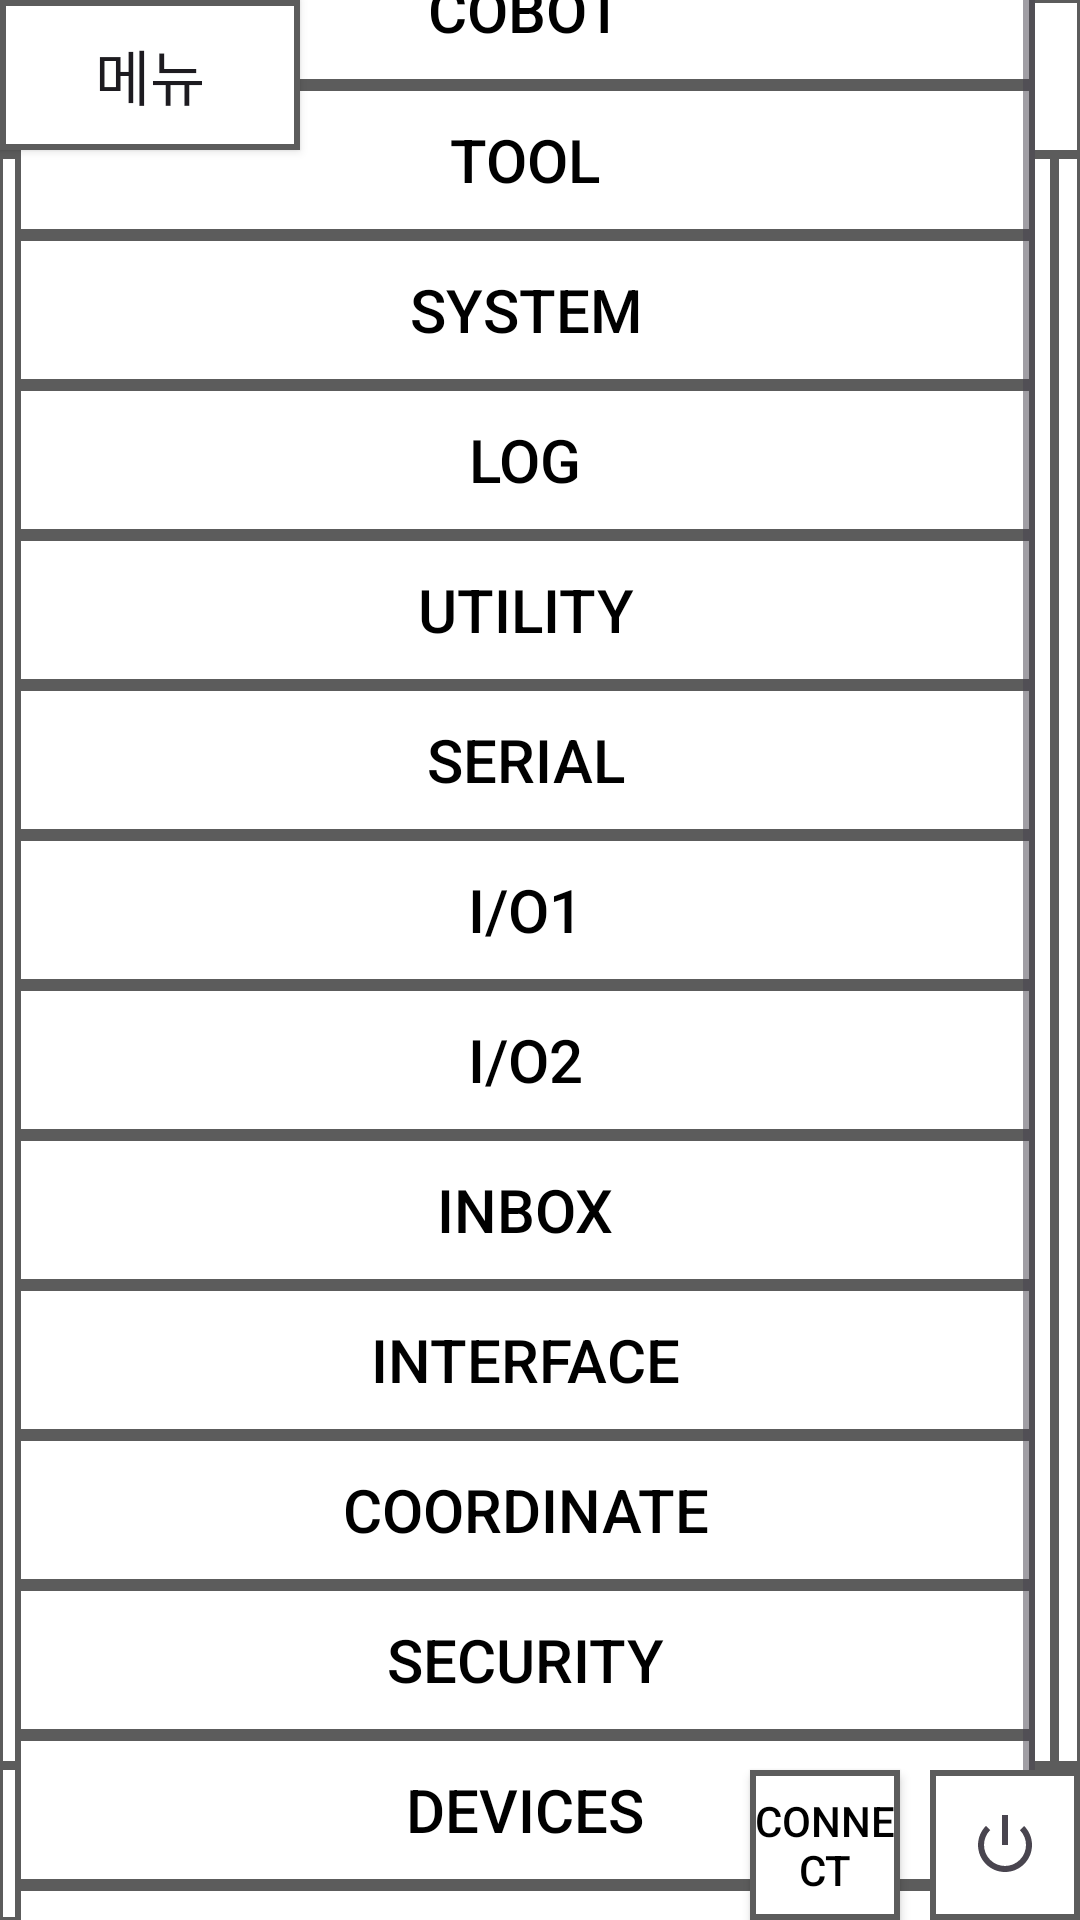

Screen size 1080*1920. Icon name, then its center in pixels as (x,y):
파워 버튼: (1005,1845)
